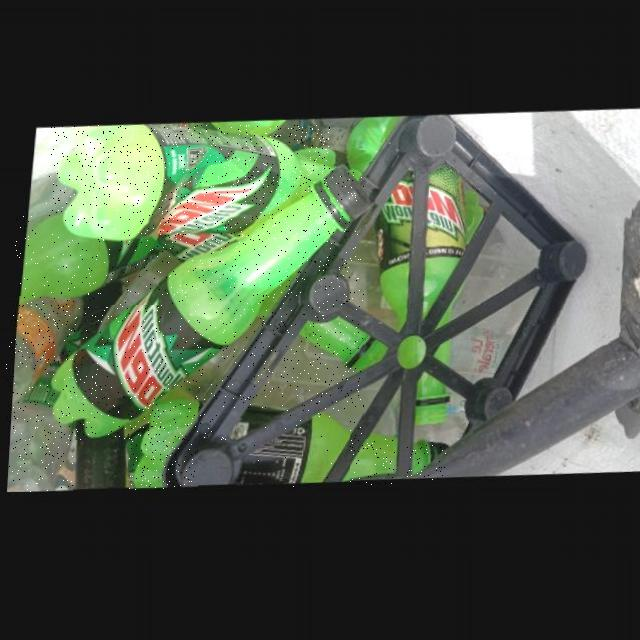plastic: (47, 170, 364, 440), (51, 125, 330, 241), (15, 213, 159, 304), (6, 361, 73, 491), (236, 418, 350, 488), (10, 296, 79, 407), (129, 402, 198, 489), (339, 439, 395, 485), (227, 408, 285, 443), (407, 445, 446, 480)
